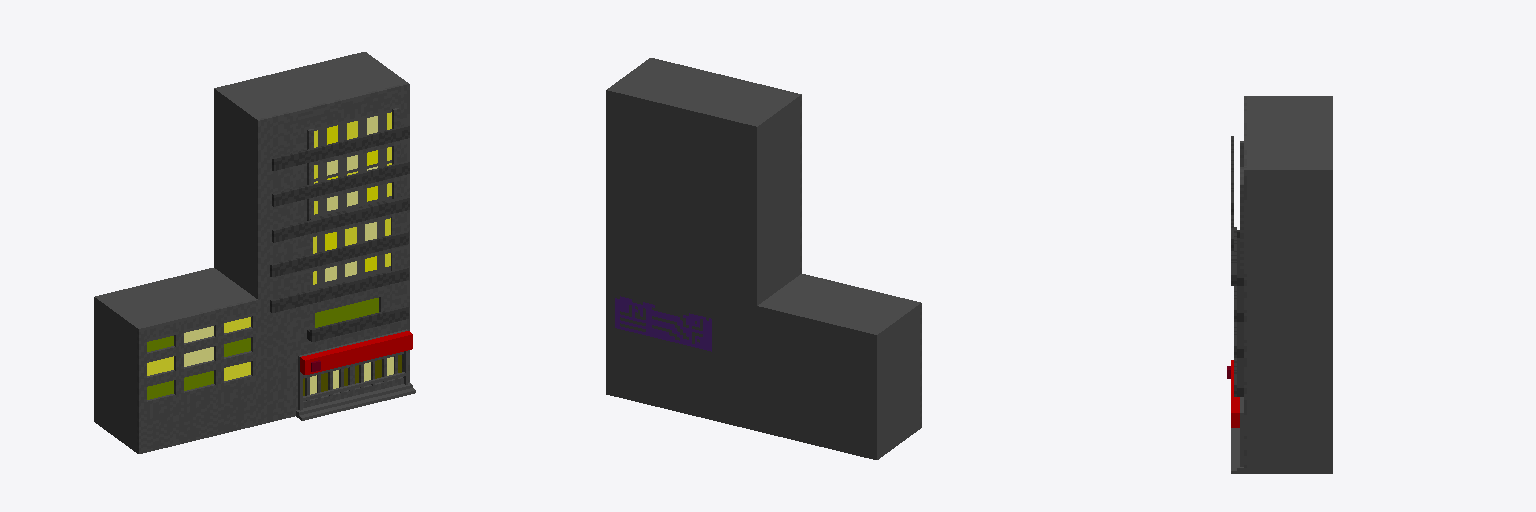
The picture shows the model from 3 angles: view 1: azimuth 30°, elevation 25°; view 2: azimuth 150°, elevation 25°; view 3: azimuth 270°, elevation 25°; orthographic projection.
Visible parts, largest first — view 1: object 1; view 2: object 1; view 3: object 1.
Part boxes in pixels (bbox=[...]): object 1: bbox=[94, 52, 415, 453]; object 1: bbox=[606, 58, 921, 459]; object 1: bbox=[1227, 96, 1332, 473].
Size of the model in its own units: 9.5 by 10.2 by 3.2.
1 materials, 1 textured.